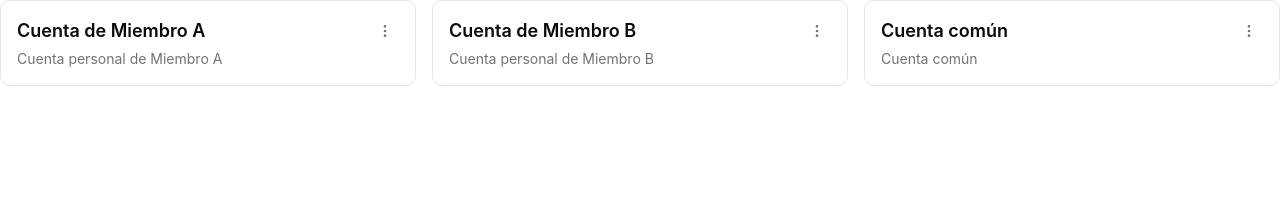
Test: AccountCardGrid › el ítem «Aportación» aparece segundo bajo «Ingreso regular» solo en cuentas personales con estado a la derecha
Click the button named "Configuración de Cuenta de Miembro A" at x=385, y=31, box [363,9,407,53]
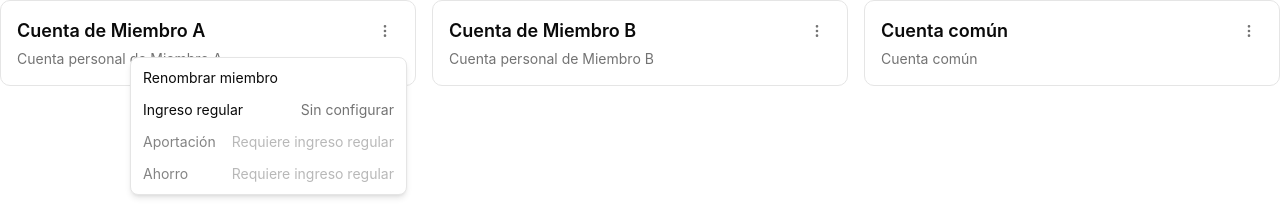
expect the menu items read "Renombrar miembro", "Ingreso regularSin configurar", "AportaciónRequiere ingreso regular", "AhorroRequiere ingreso regular", in this order: met, box [143,69,278,86]; [143,101,394,118]; [143,133,394,150]; [143,165,394,182]
Press Escape
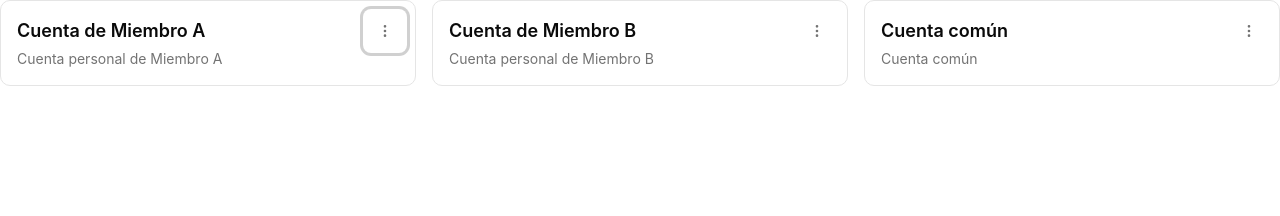
Click the button named "Configuración de Cuenta de Miembro B" at x=817, y=31, box [795,9,839,53]
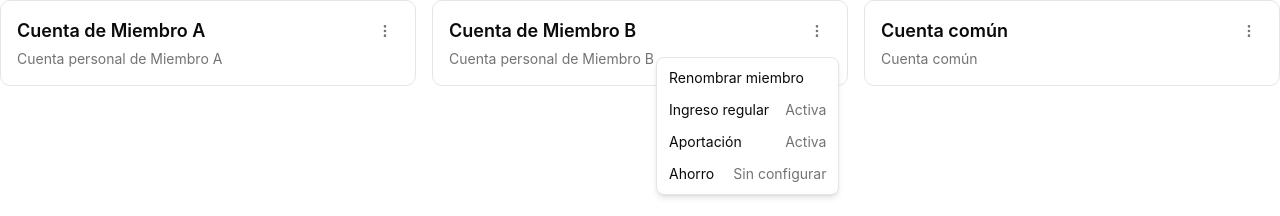
expect the menu item "Aportación Activa" is shown: met, box [669,133,826,150]
expect the text with class "ml-auto" next to "Aportación" is shown: met, box [785,132,826,152]
